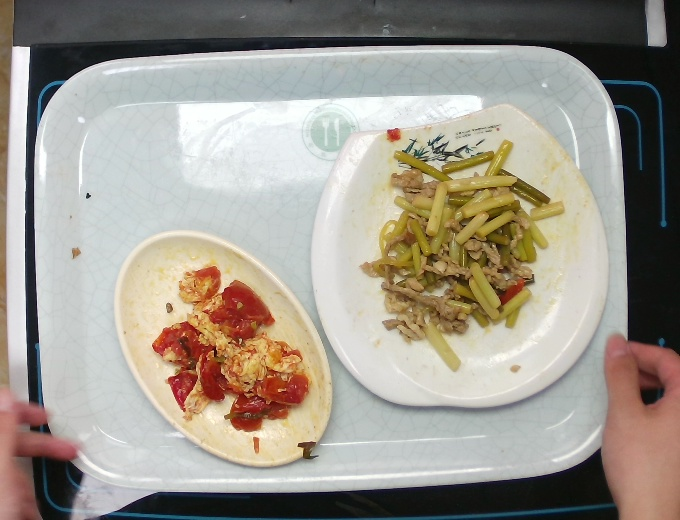JYsf-Mian_Pan: (303, 98, 615, 413)
JYsf-Tuo_Yuan_Wan: (108, 226, 336, 473)
